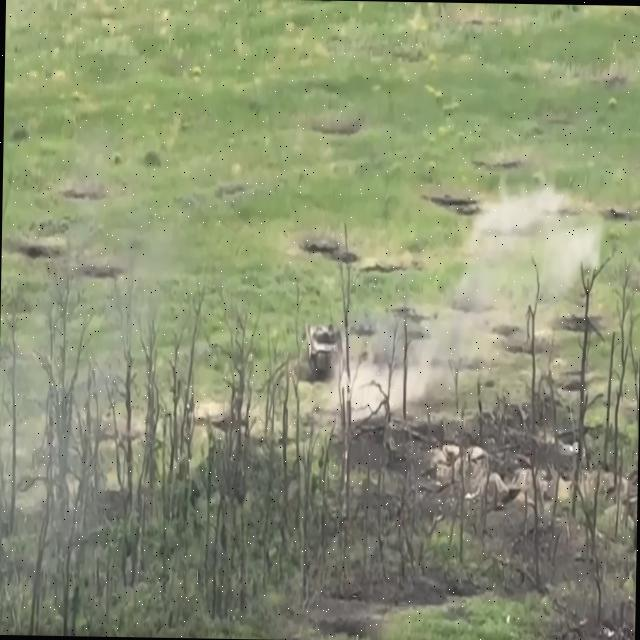AIFV: (303, 319, 346, 380)
